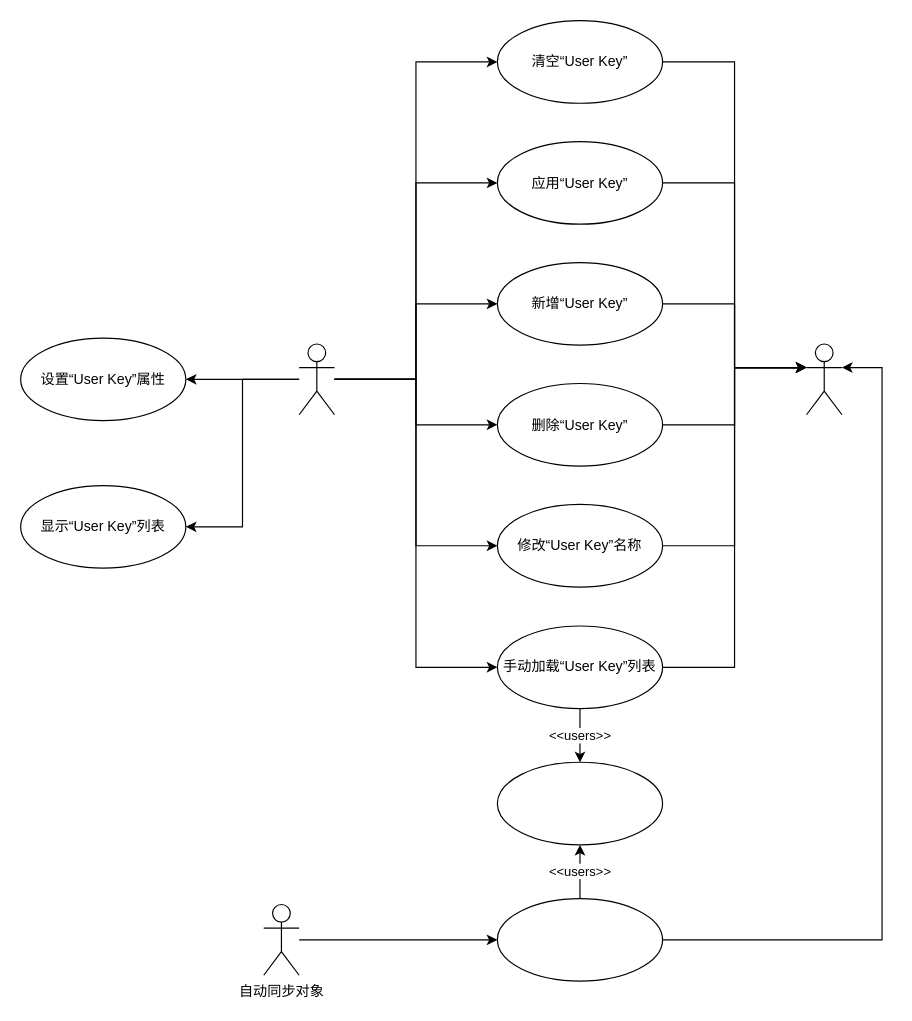
This 912x1021 diagram has some shape labels left out. Each missing label, with the centre of its shape:
"加载“User Key”列表" goes at (x=579, y=803).
"用户" goes at (x=316, y=379).
"自动加载“User Key”列表" goes at (x=579, y=939).
"视频处理设备" goes at (x=823, y=379).
